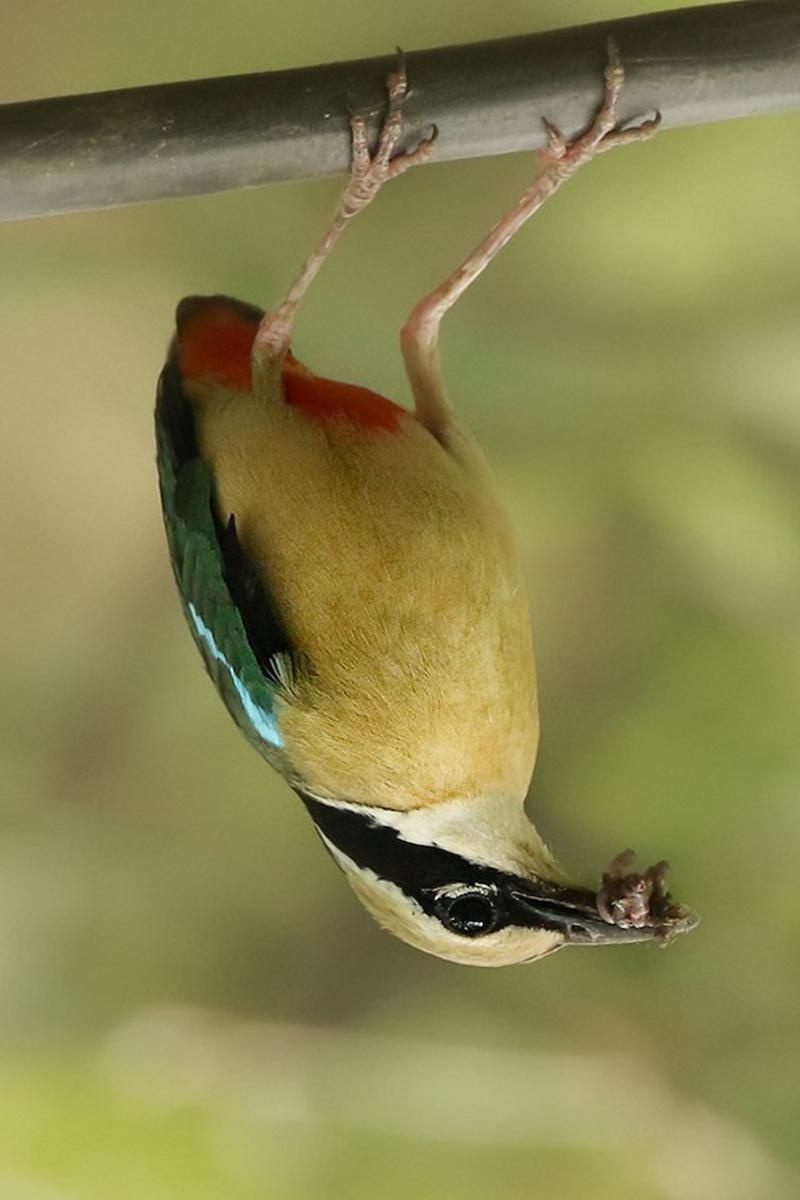pitta: (175, 75, 678, 1024)
